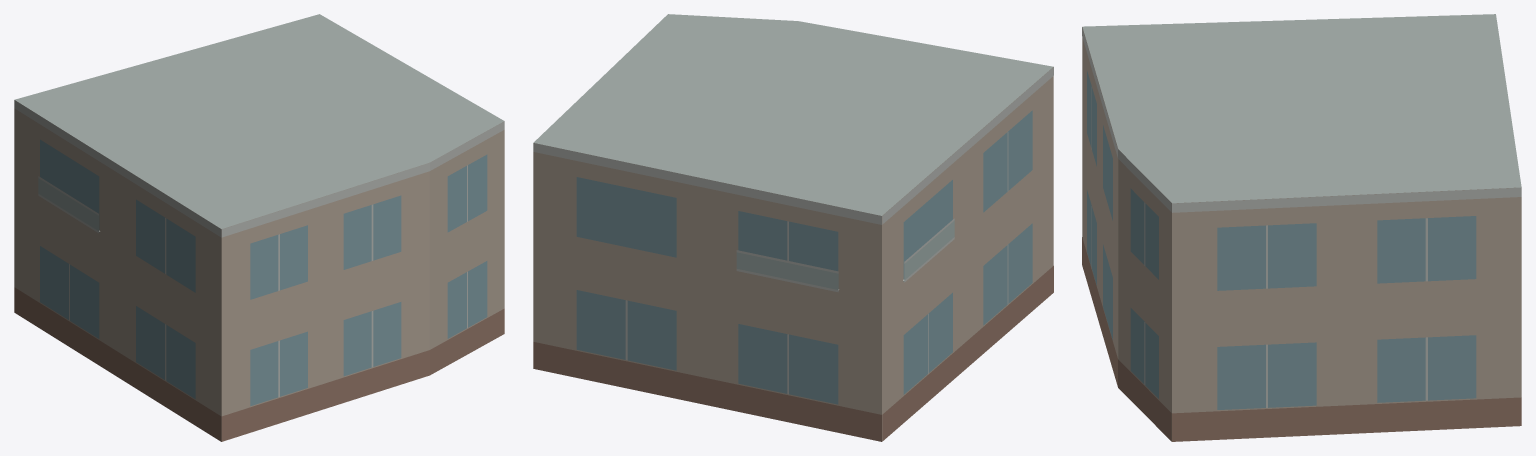
File: survey-upis-32479664.glb
The picture shows the model from 3 angles, left to right: view 1: azimuth 30°, elevation 25°; view 2: azimuth 150°, elevation 25°; view 3: azimuth 270°, elevation 25°; orthographic projection. The views are drawn at different scales.
Visible parts, largest first — view 1: survey-upis-32479664.tmp; view 2: survey-upis-32479664.tmp; view 3: survey-upis-32479664.tmp.
Boxes of the visible parts, bbox=[...] form: survey-upis-32479664.tmp: bbox=[14, 14, 504, 441]; survey-upis-32479664.tmp: bbox=[533, 14, 1053, 441]; survey-upis-32479664.tmp: bbox=[1082, 14, 1521, 441].
Size of the model in its own units: 10.39 by 6.1 by 10.2.
